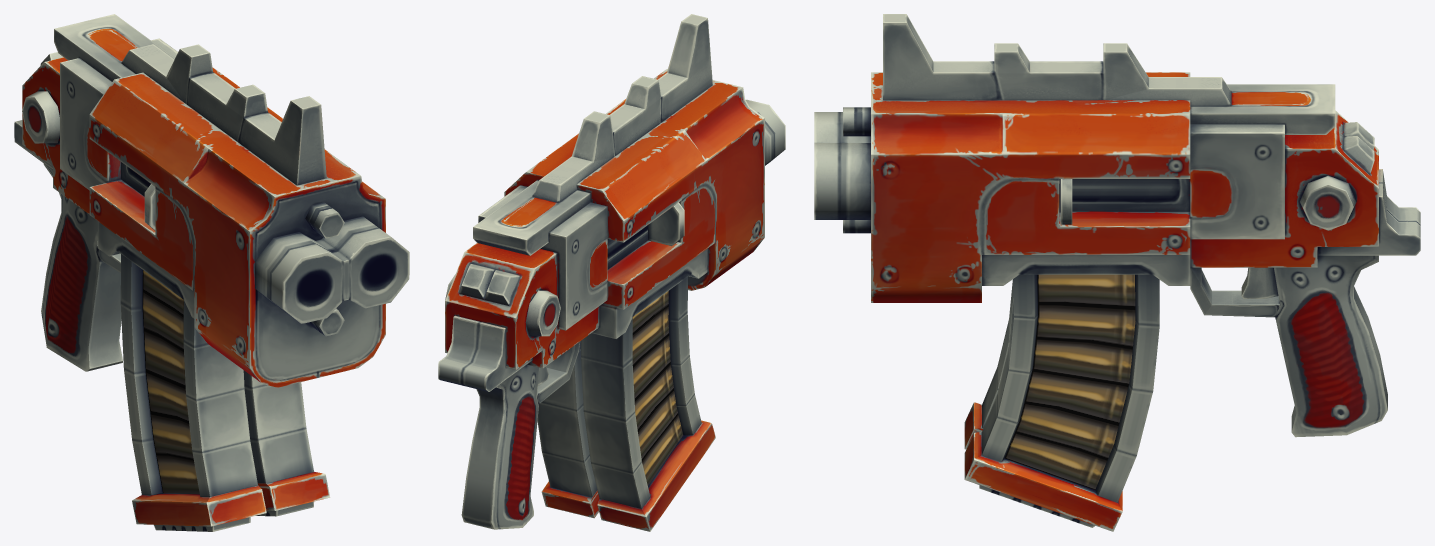
Rendered from gun_05.fbx.
3 renders of one model, left to right at view 1: azimuth 30°, elevation 25°; view 2: azimuth 150°, elevation 25°; view 3: azimuth 270°, elevation 25°, orthographic. The views are drawn at different scales.
Parts seen in each view (by area): view 1: gun_05, gun_05_clip; view 2: gun_05, gun_05_clip; view 3: gun_05, gun_05_clip.
Boxes of the visible parts, x1,y1,x2,y2 form: gun_05: [14, 14, 409, 531]; gun_05_clip: [120, 254, 313, 496]; gun_05: [438, 14, 785, 531]; gun_05_clip: [537, 277, 701, 508]; gun_05: [814, 14, 1420, 531]; gun_05_clip: [982, 274, 1159, 502].
Bounding box in the file's own units: 5.61 × 18.16 × 20.58.
